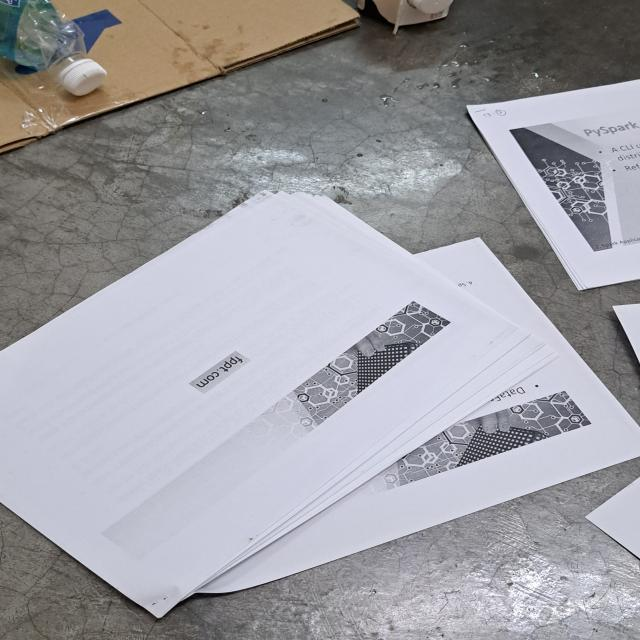cardboard: (0, 0, 367, 154)
drink carton: (371, 0, 448, 36)
paper: (0, 190, 640, 621), (465, 76, 640, 289)
plastic bottle: (0, 0, 90, 76)
plastic bottle cap: (60, 60, 106, 97), (407, 0, 454, 15)
